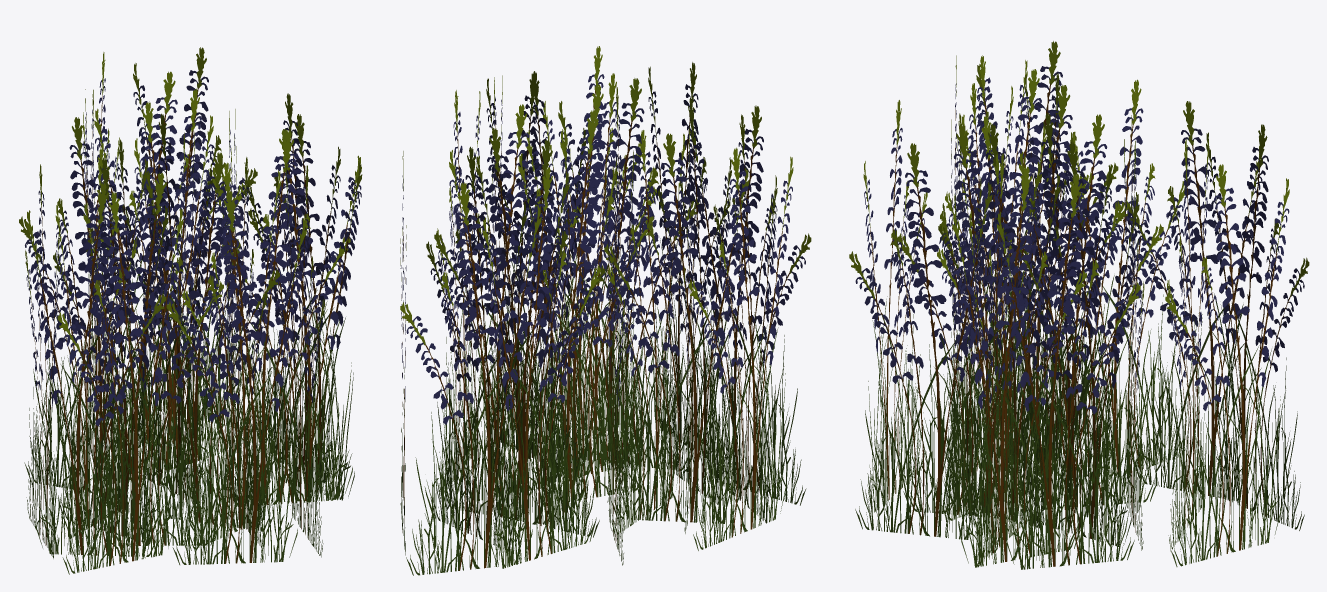
File: space_lilac.fbx
The picture shows the model from 3 angles, left to right: view 1: azimuth 30°, elevation 25°; view 2: azimuth 150°, elevation 25°; view 3: azimuth 270°, elevation 25°; orthographic projection. The views are drawn at different scales.
Parts seen in each view (by area): view 1: Cube_5; view 2: Cube_5; view 3: Cube_5.
Part boxes in pixels (<box>): Cube_5: <box>19,47,362,574</box>; Cube_5: <box>400,46,811,575</box>; Cube_5: <box>849,41,1309,569</box>.
Size of the model in its own units: 91.11 by 105 by 111.
Materials: 1 (1 with a texture image).
